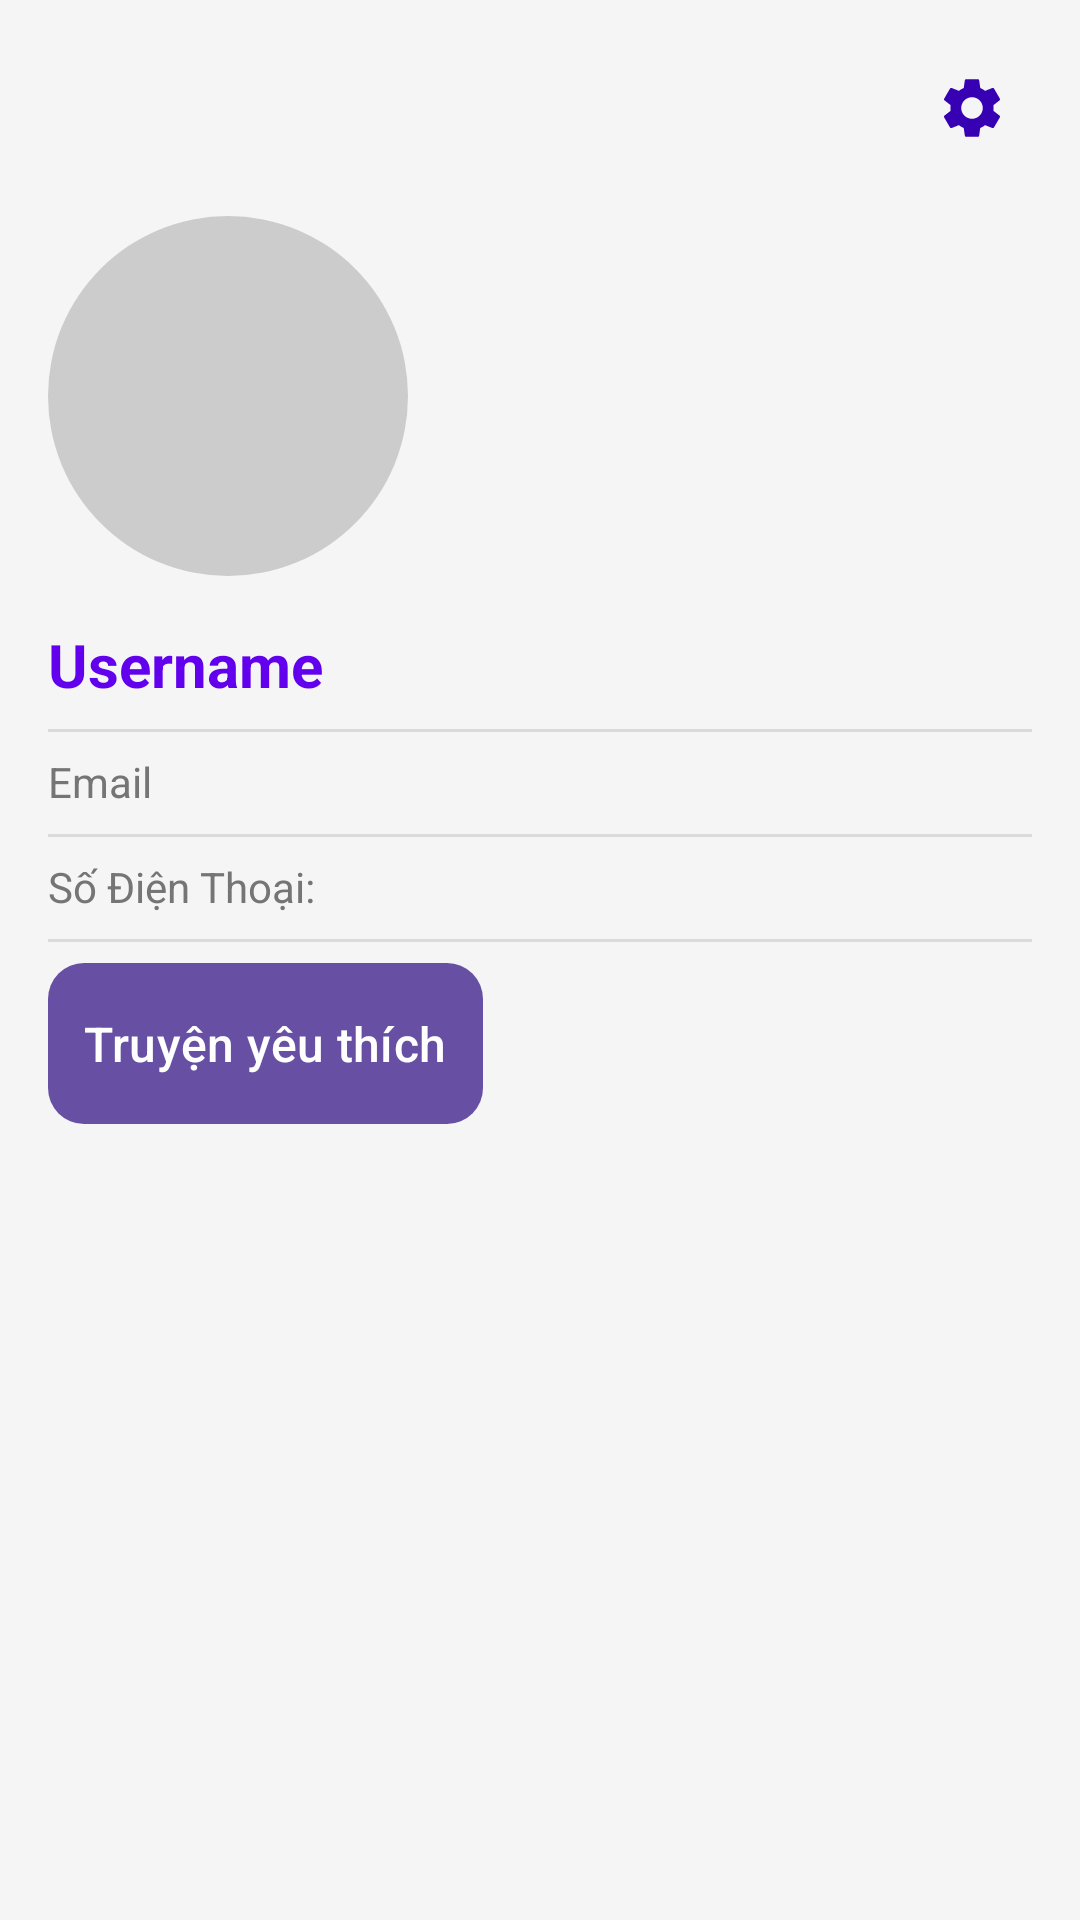

Icons on this 1080w x 1920h Android screen, each with the point to tap as point (x, y):
settings: point (972, 108)
